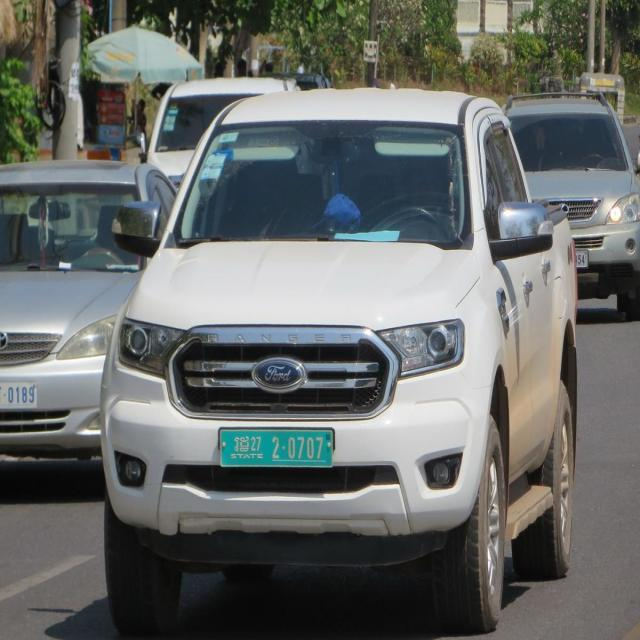State: (235, 434, 251, 452)
